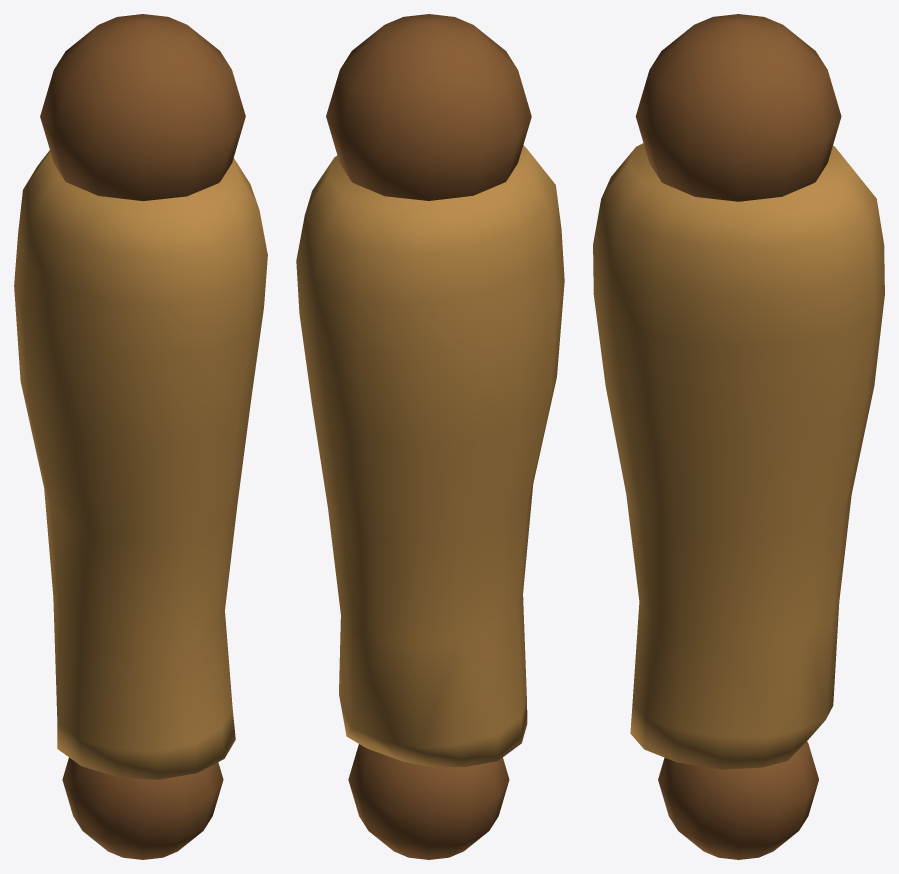
The model's file is thigh_r.dae.
3 renders of one model, left to right at view 1: azimuth 30°, elevation 25°; view 2: azimuth 150°, elevation 25°; view 3: azimuth 270°, elevation 25°, orthographic.
Parts seen in each view (by area): view 1: Uper_Leg_R_Skin, Hip_R_Skin, Knee_R_Skin; view 2: Uper_Leg_R_Skin, Hip_R_Skin, Knee_R_Skin; view 3: Uper_Leg_R_Skin, Hip_R_Skin, Knee_R_Skin.
Boxes of the visible parts, bbox=[...] form: Uper_Leg_R_Skin: bbox=[14, 150, 267, 779]; Hip_R_Skin: bbox=[40, 14, 245, 200]; Knee_R_Skin: bbox=[62, 757, 223, 859]; Uper_Leg_R_Skin: bbox=[296, 145, 564, 767]; Hip_R_Skin: bbox=[326, 14, 531, 200]; Knee_R_Skin: bbox=[348, 744, 509, 859]; Uper_Leg_R_Skin: bbox=[593, 143, 884, 769]; Hip_R_Skin: bbox=[635, 14, 841, 201]; Knee_R_Skin: bbox=[658, 741, 818, 859].
Bounding box in the file's own units: 4.77 × 5.71 × 17.89.
